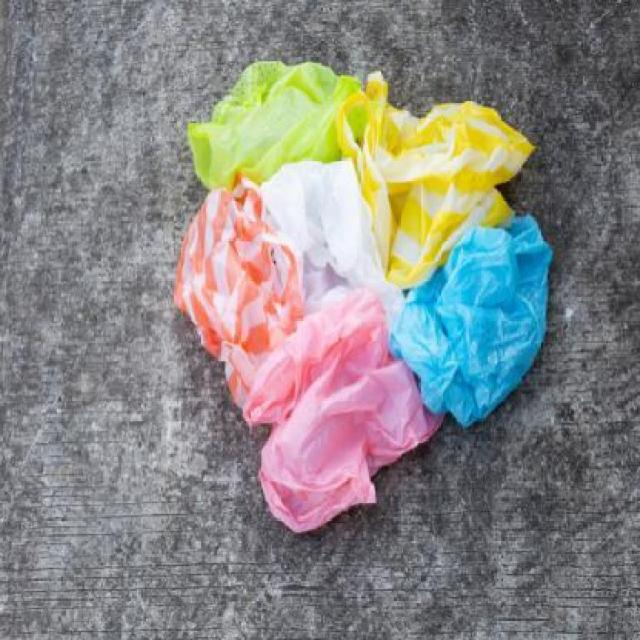plastic bag: (238, 303, 430, 541), (357, 49, 531, 267), (403, 226, 555, 421), (180, 46, 357, 192), (166, 180, 286, 365), (271, 165, 374, 296)
